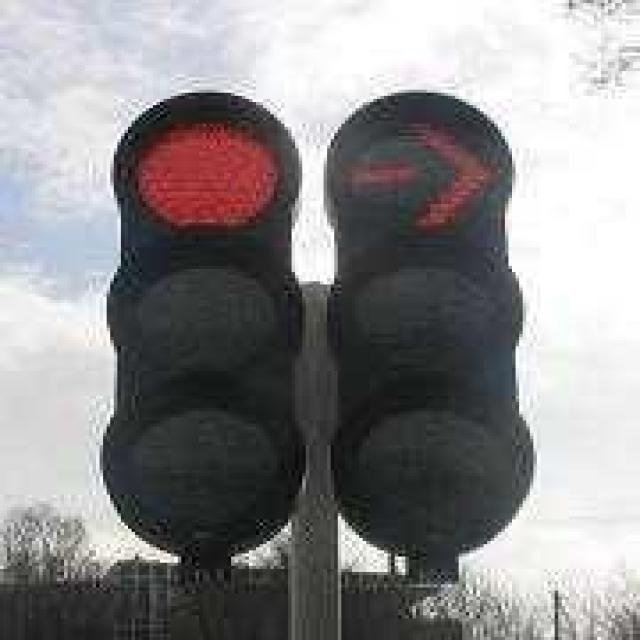Traffic Light -Red-: (96, 78, 313, 622), (306, 77, 544, 572)
